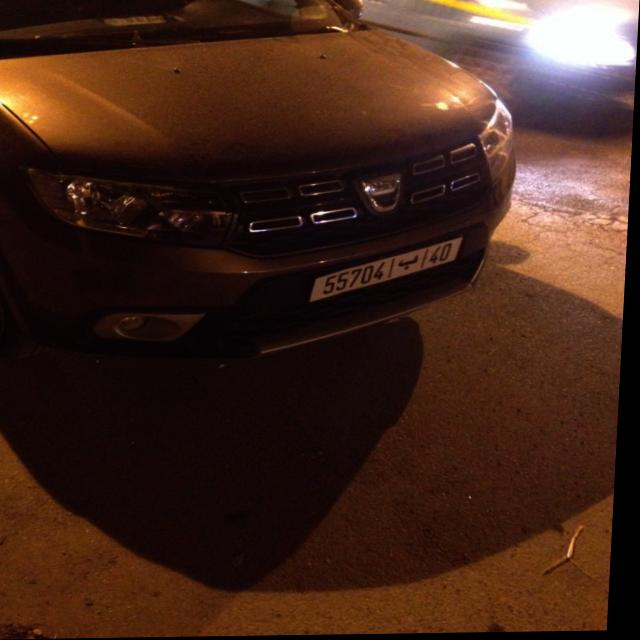License-Plate: (313, 239, 465, 302)
